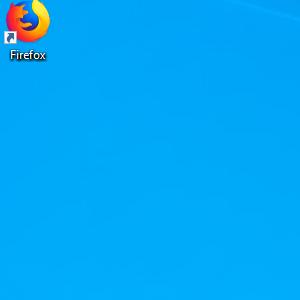firefox: (3, 1, 52, 44)
